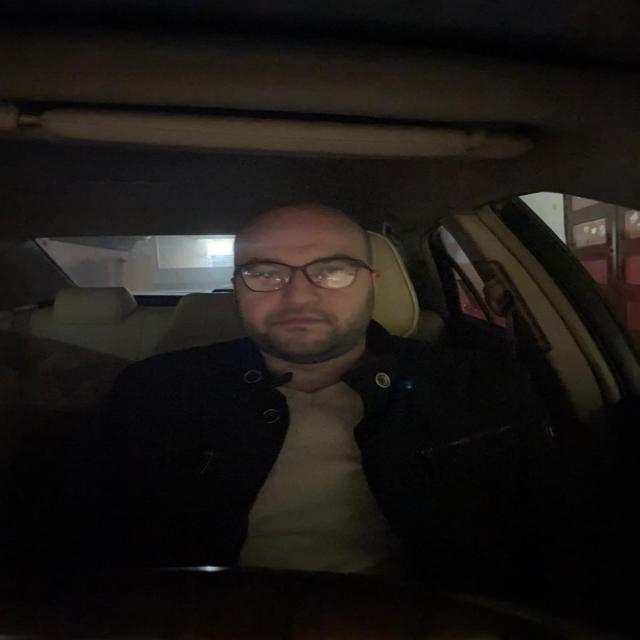person: (225, 190, 405, 390)
